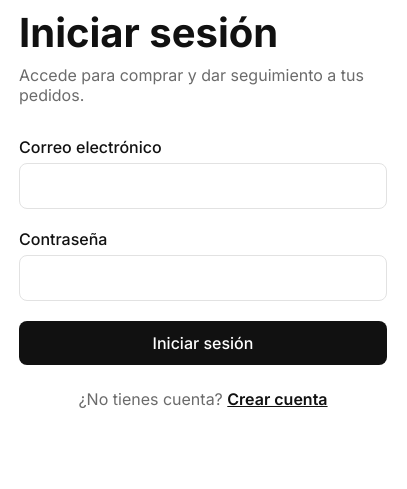
Test: TC-UI-02 Inicio de sesión › rechaza credenciales incorrectas
This screenshot has width=407, height=489.
Step 1. Type "ronald@test.com" into the field labelled "Correo electrónico" → (203, 186), box [19,163,387,209]
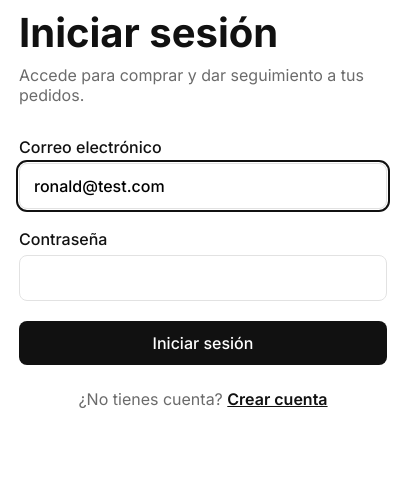
Step 2. Type "clave-mala" into the password field labelled "Contraseña" → (203, 278), box [19,255,387,301]
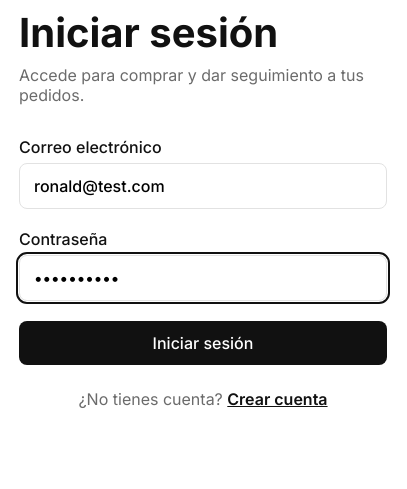
Step 3. Click the button "Iniciar sesión" → (203, 343), box [19,321,387,365]
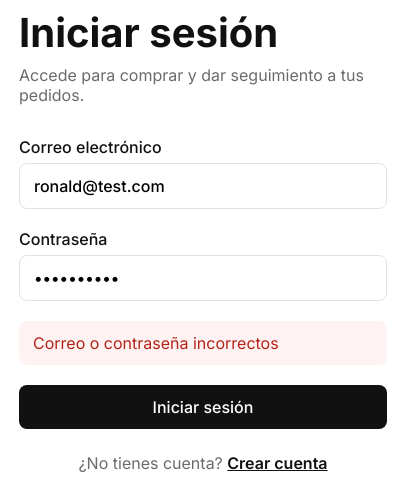
Result: the message reads "Correo o contraseña incorrectos" at [33,333,279,353]
